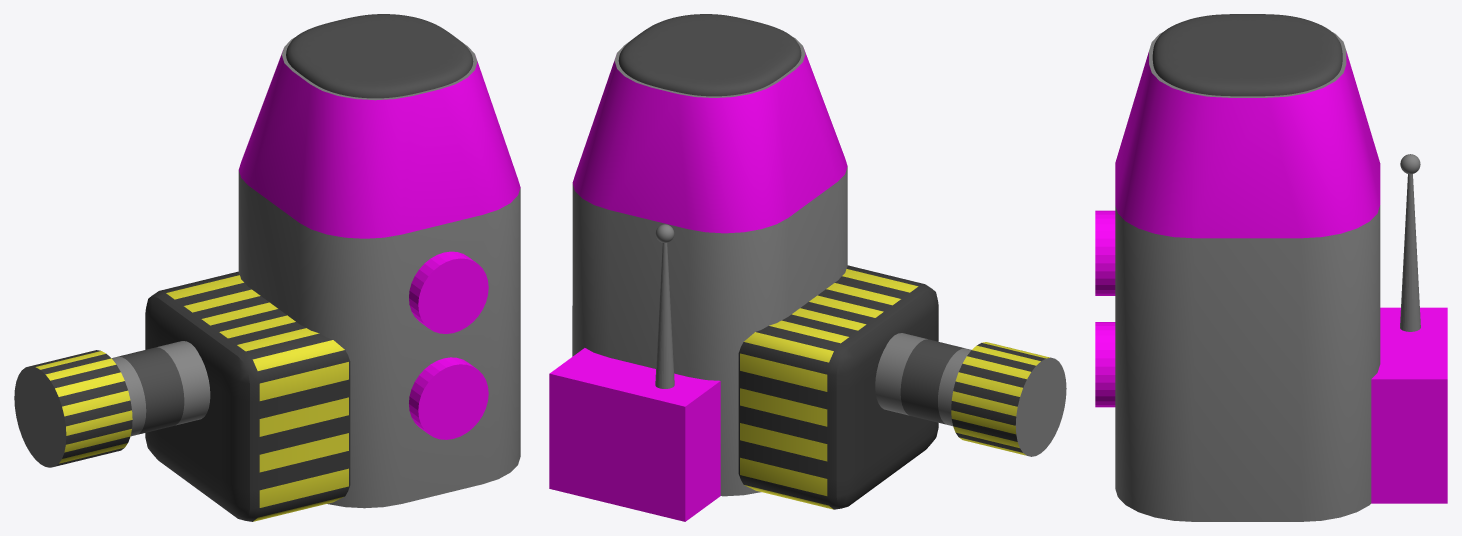
Rendered from NuclearSilo.fbx.
3 views of the same model, side by side, from view 1: azimuth 30°, elevation 25°; view 2: azimuth 150°, elevation 25°; view 3: azimuth 270°, elevation 25° (orthographic). The views are drawn at different scales.
Parts seen in each view (by area): view 1: Cube.045, magenta.001, Cylinder.059, Cube.046, Cylinder.061; view 2: Cube.045, magenta.001, Cube.047, Cylinder.059, Cube.046, Sphere.015; view 3: Cube.045, Cube.047, Cube.046, Cylinder.061, Sphere.015.
Part boxes in pixels (box(x1,y1,x2,y2)): Cube.045: box(238, 37, 520, 508); magenta.001: box(145, 271, 350, 521); Cylinder.059: box(14, 341, 210, 467); Cube.046: box(286, 14, 473, 98); Cylinder.061: box(409, 251, 488, 439); Cube.045: box(572, 36, 847, 496); magenta.001: box(738, 265, 938, 509); Cube.047: box(549, 348, 720, 521); Cylinder.059: box(875, 333, 1066, 456); Cube.046: box(618, 14, 801, 96); Sphere.015: box(655, 224, 674, 388); Cube.045: box(1115, 32, 1380, 521); Cube.047: box(1371, 307, 1447, 503); Cube.046: box(1152, 14, 1342, 96); Cylinder.061: box(1095, 210, 1115, 407); Sphere.015: box(1400, 154, 1420, 331).
Size of the model in its own units: 197 by 168 by 128.
